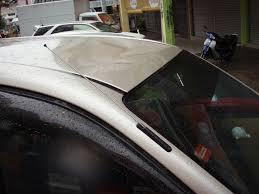roof-dent: (0, 24, 169, 97)
